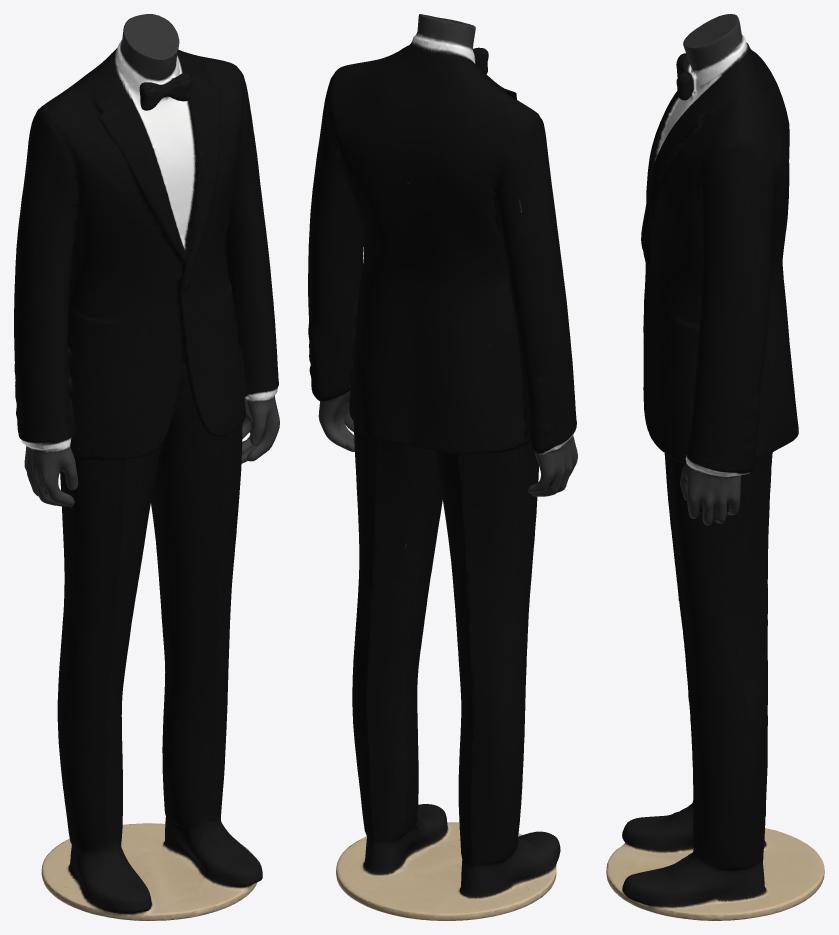
File: 01-midnight-tuxedo.glb
The picture shows the model from 3 angles, left to right: view 1: azimuth 30°, elevation 25°; view 2: azimuth 150°, elevation 25°; view 3: azimuth 270°, elevation 25°; orthographic projection.
Size of the model in its own units: 0.5838 by 1.9 by 0.4391.
1 material, 1 textured.
